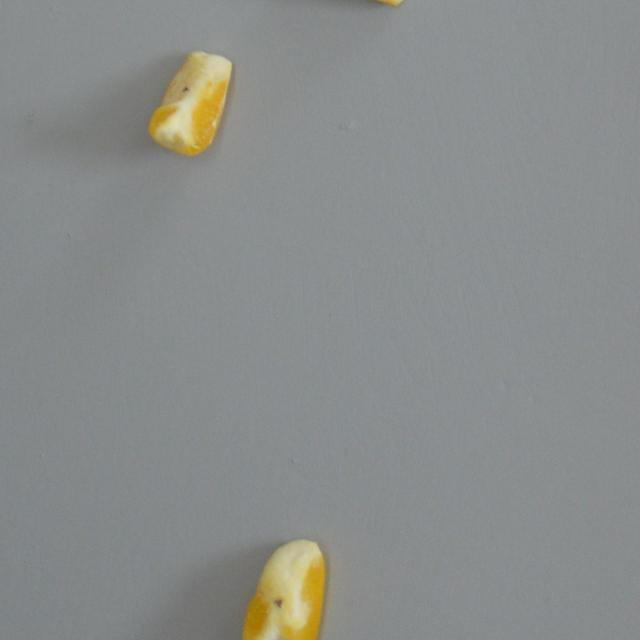punto_negro: (233, 530, 328, 640), (143, 47, 235, 160), (276, 0, 414, 11)
